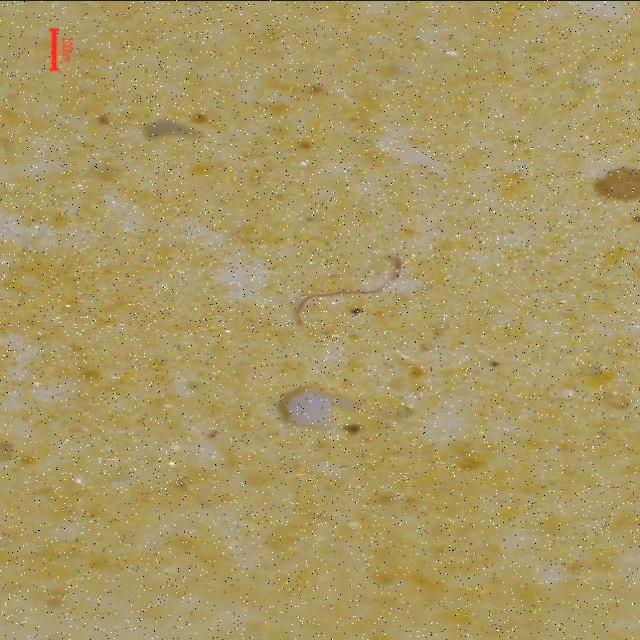Fibre: (284, 248, 406, 330)
microbeads: (278, 382, 340, 433)
